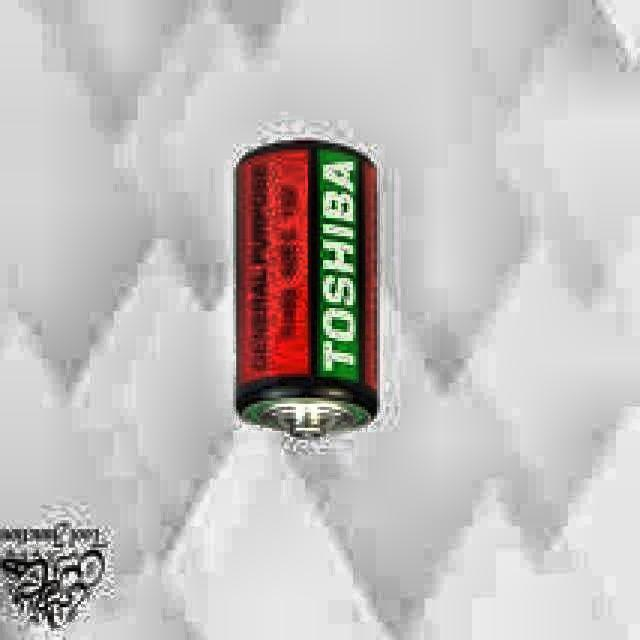battery: (234, 141, 378, 438)
